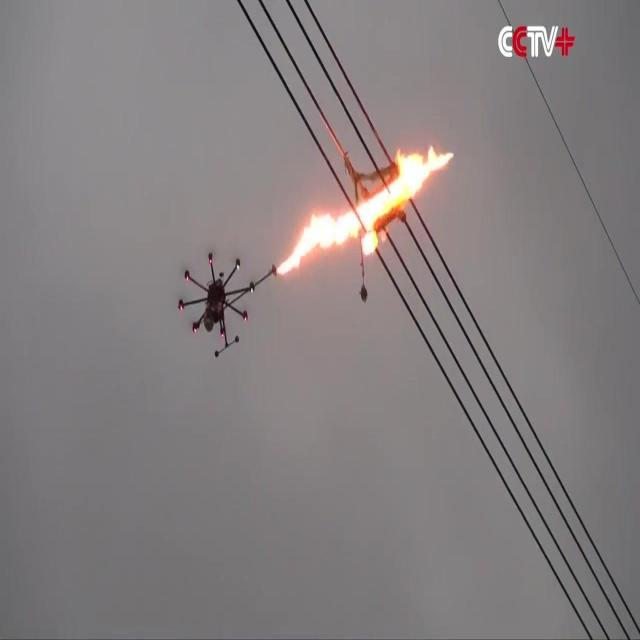drone: (175, 249, 256, 362)
